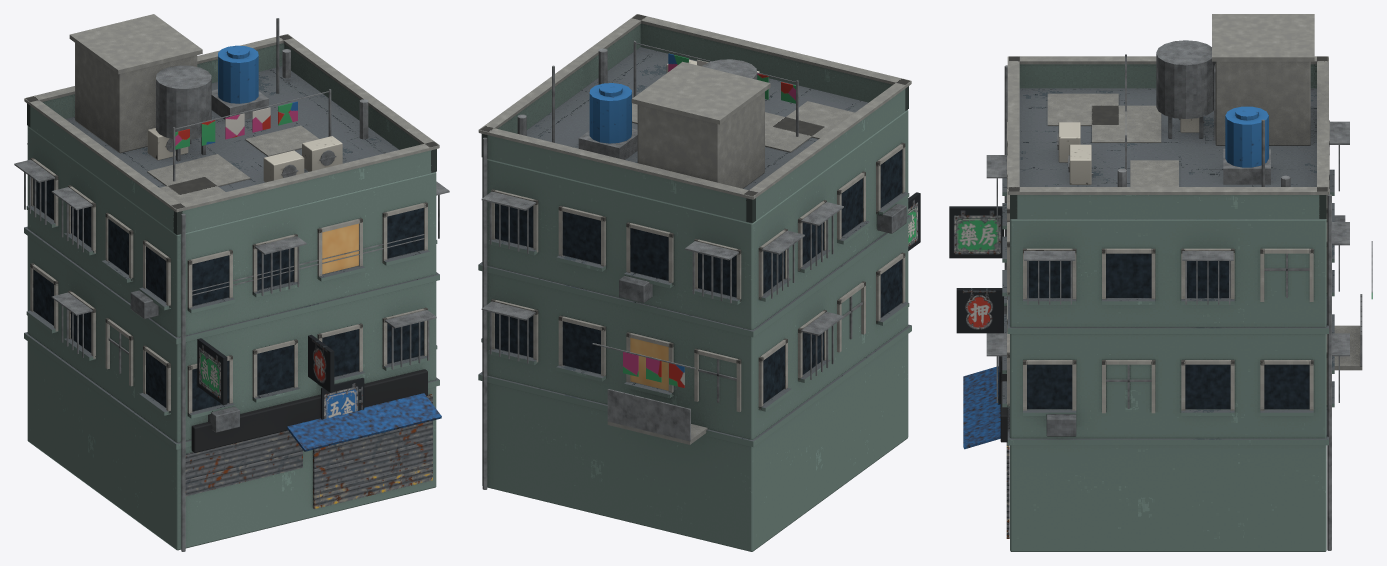
Rendered from city_shop_house.glb.
3 renders of one model, left to right at view 1: azimuth 30°, elevation 25°; view 2: azimuth 150°, elevation 25°; view 3: azimuth 270°, elevation 25°, orthographic. The views are drawn at different scales.
Visible parts, largest first — view 1: city_shop_house.001; view 2: city_shop_house.001; view 3: city_shop_house.001.
Part boxes in pixels (x1,y1,x2,y2): city_shop_house.001: (14, 14, 449, 551); city_shop_house.001: (478, 14, 920, 551); city_shop_house.001: (949, 14, 1372, 551).
Size of the model in its own units: 9.19 by 11.82 by 10.7.
17 materials, 17 textured.
